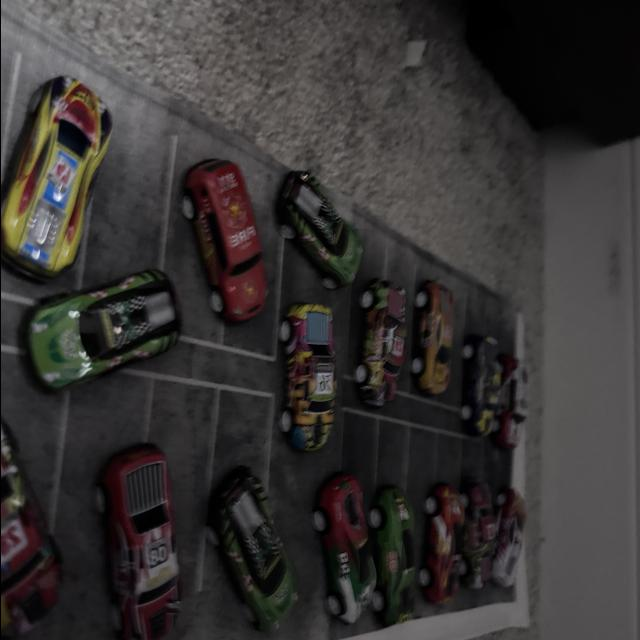Car: (83, 384, 188, 640), (190, 440, 308, 640), (0, 88, 144, 223), (34, 302, 200, 400), (268, 298, 352, 482), (203, 176, 280, 362), (416, 453, 488, 640), (0, 404, 58, 606), (266, 170, 352, 294), (374, 462, 428, 640), (405, 268, 448, 460), (472, 424, 520, 554), (367, 270, 407, 414), (494, 334, 542, 448), (314, 497, 348, 640), (472, 357, 496, 413)
